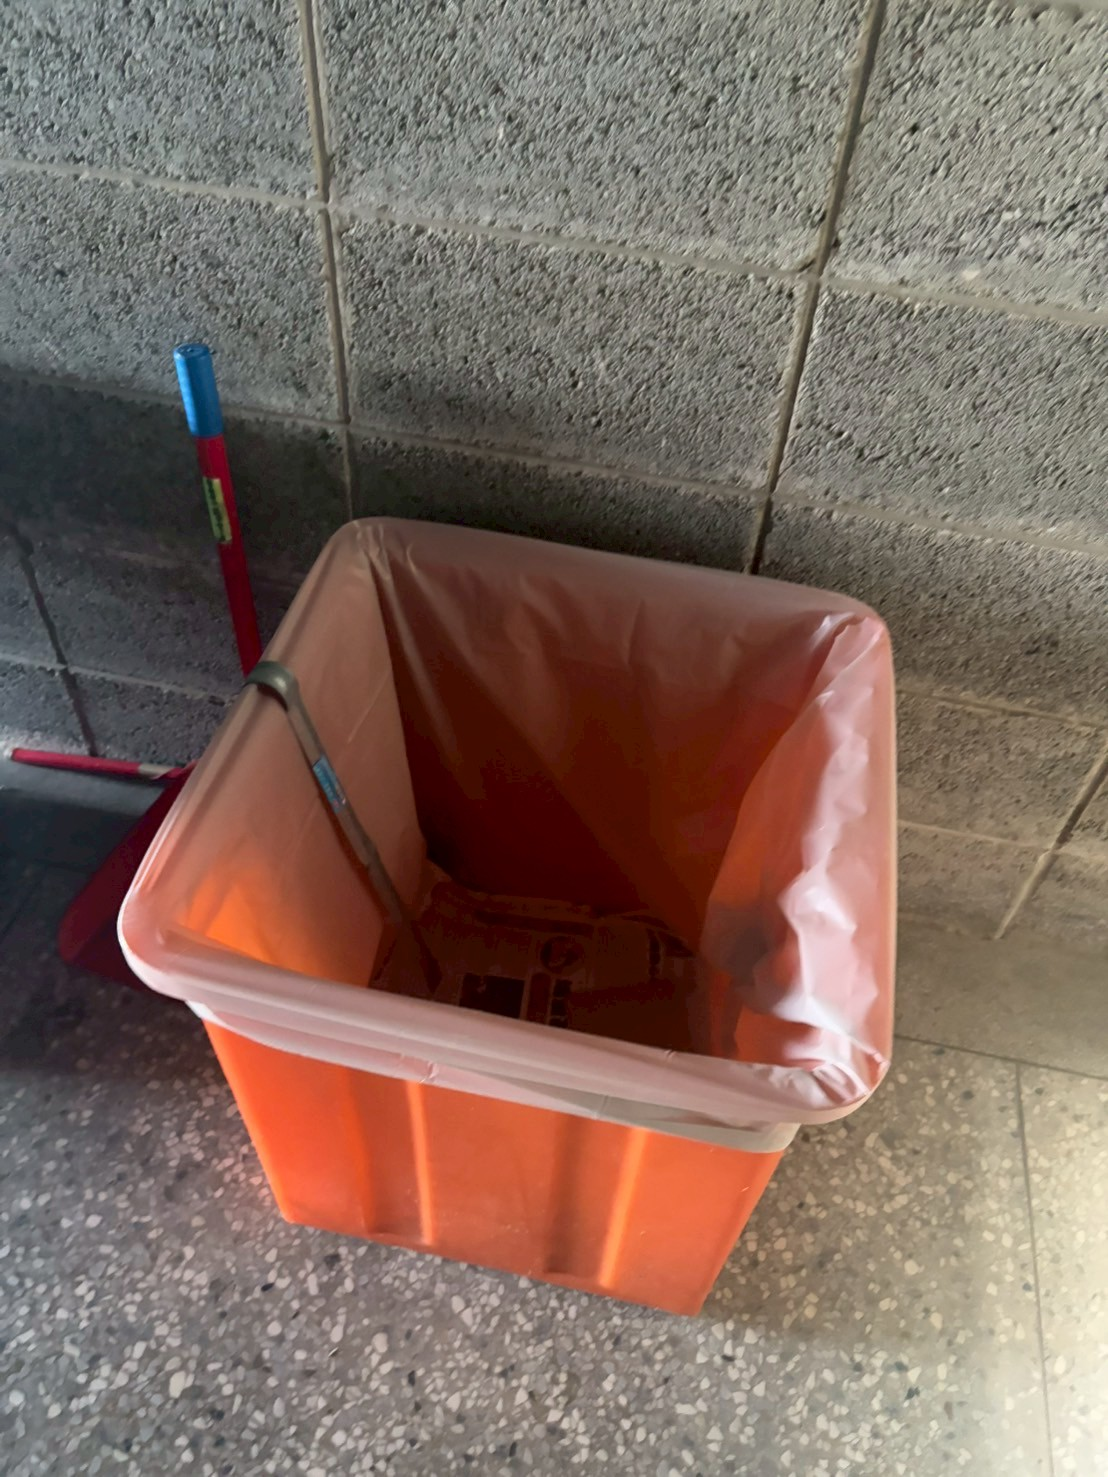normal_bin: (116, 487, 910, 1352)
